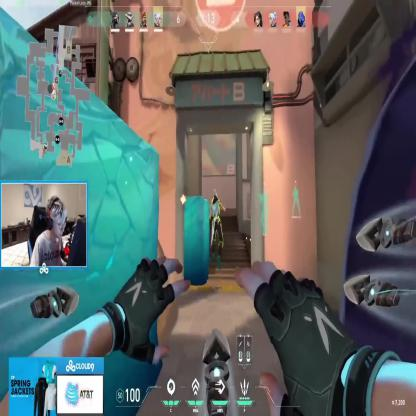enemy: (209, 189, 225, 269)
enemy_head: (212, 189, 218, 200)
